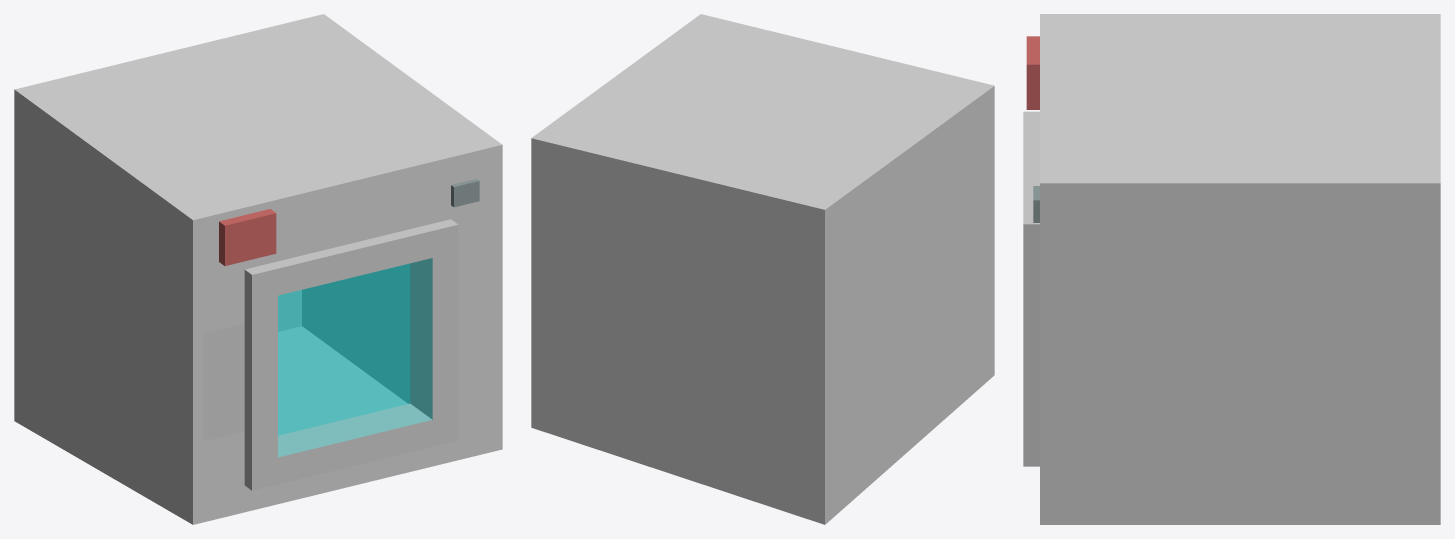
File: dryer.fbx
The picture shows the model from 3 angles, left to right: view 1: azimuth 30°, elevation 25°; view 2: azimuth 150°, elevation 25°; view 3: azimuth 270°, elevation 25°; orthographic projection. The views are drawn at different scales.
Visible parts, largest first — view 1: dryer, door; view 2: dryer; view 3: dryer, door.
Boxes of the visible parts, x1,y1,x2,y2 form: dryer: (14,14,502,524); door: (203,219,458,490); dryer: (531,14,994,524); dryer: (1026,14,1440,524); door: (1023,111,1039,466).
Bounding box in the file's own units: 210 × 215 × 219.
